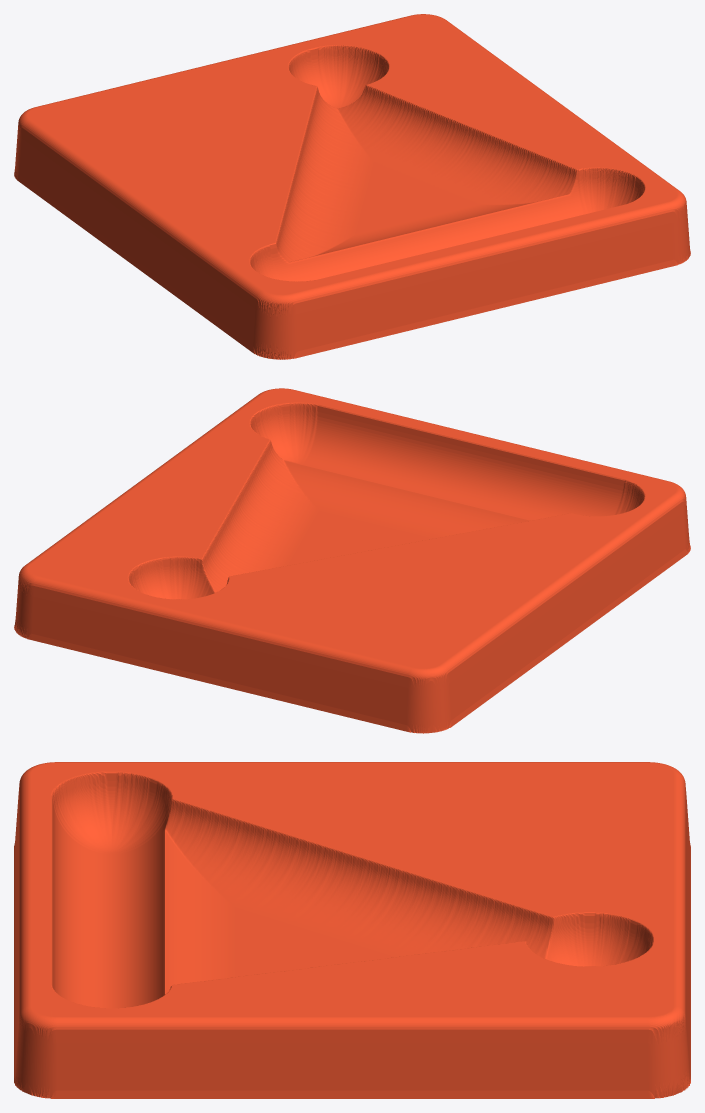
The model's file is mold.glb.
3 renders of one model, top to bottom at view 1: azimuth 30°, elevation 25°; view 2: azimuth 150°, elevation 25°; view 3: azimuth 270°, elevation 25°, orthographic. The views are drawn at different scales.
Parts seen in each view (by area): view 1: geometry_0; view 2: geometry_0; view 3: geometry_0.
Part boxes in pixels (x1=…): geometry_0: x1=14, y1=14, x2=690, y2=359; geometry_0: x1=14, y1=388, x2=690, y2=733; geometry_0: x1=14, y1=762, x2=690, y2=1098.
Bounding box in the file's own units: 0.1344 × 0.0175 × 0.1435.
